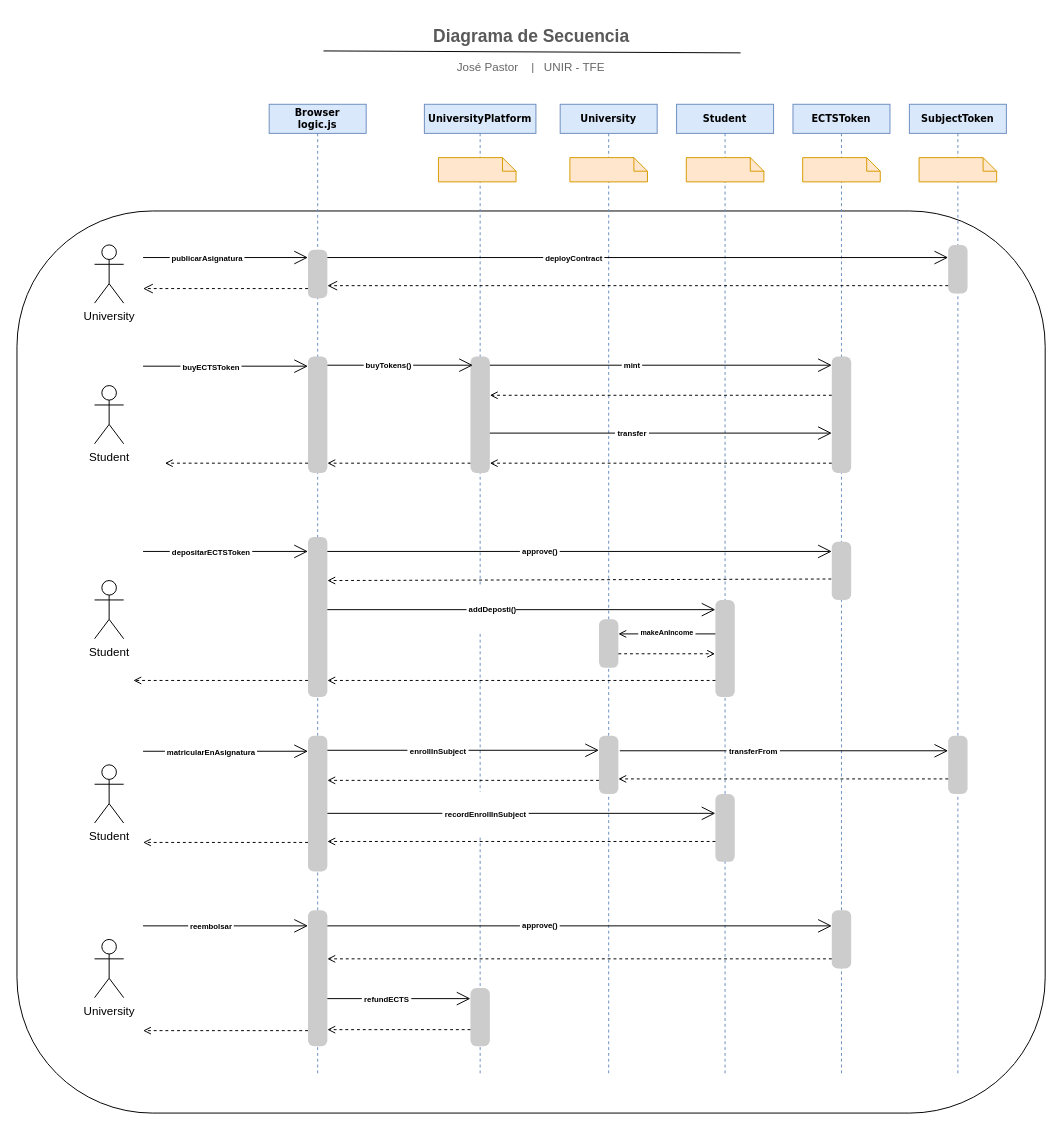
This 1062x1130 diagram has some shape labels left out. The shapes that lost their labels are listed below. From the top down, each one's centre as x and y in pixels, then its label:
At point 476,169: "0xA0...2".
At point 608,169: "0xA0...3".
At point 724,169: "0xC0...1".
At point 841,169: "0xC0...2".
At point 957,169: "0xC0...3".
